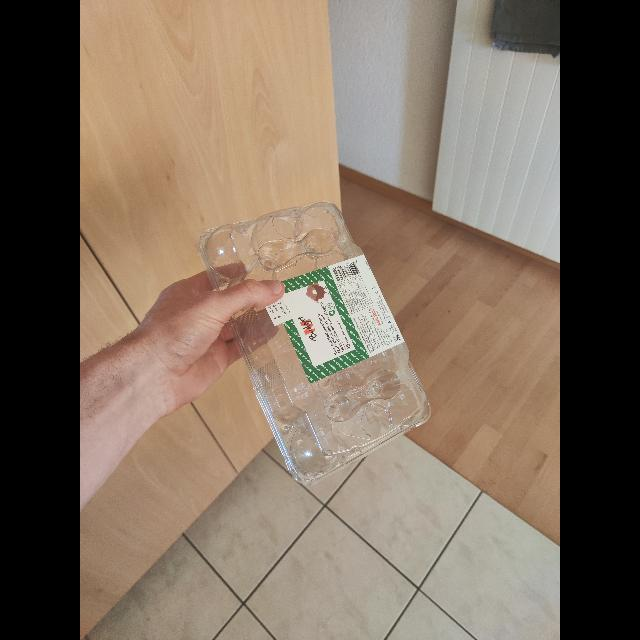Plastic: (198, 202, 434, 486)
